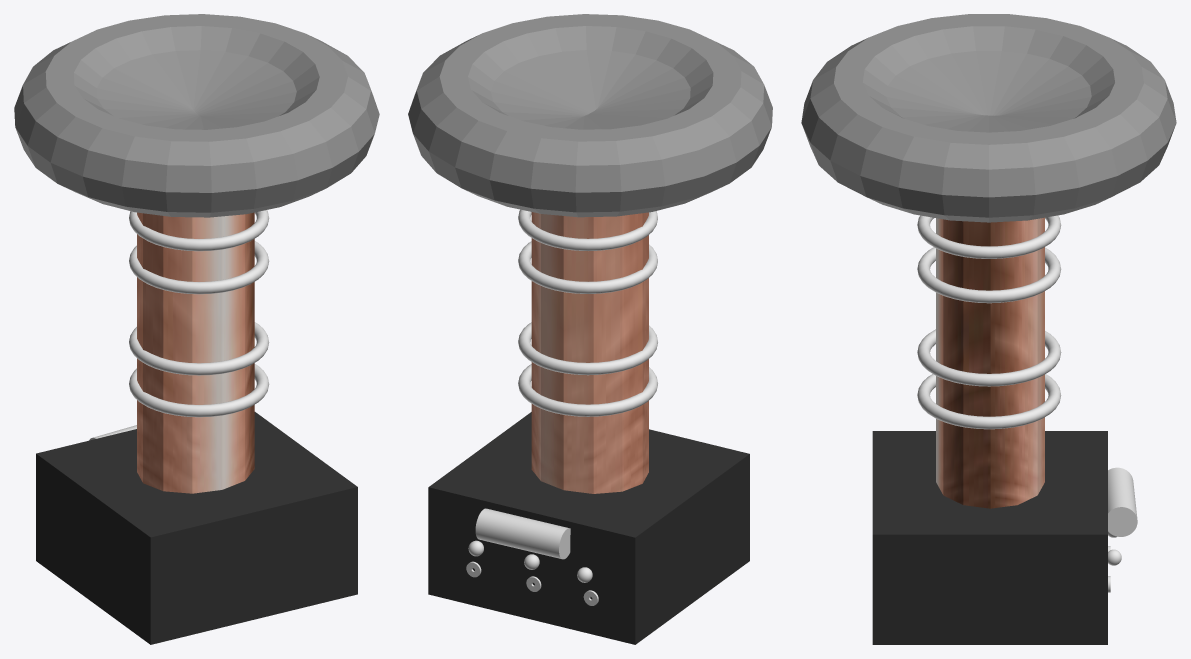
Rendered from bobina di tesla colorata.fbx.
3 renders of one model, left to right at view 1: azimuth 30°, elevation 25°; view 2: azimuth 150°, elevation 25°; view 3: azimuth 270°, elevation 25°, orthographic. The views are drawn at different scales.
Parts seen in each view (by area): view 1: Torus_2_2, Cube, Cylinder_2, Torus, Torus_2, Torus_1, Torus_3; view 2: Torus_2_2, Cube, Cylinder_2, Cylinder, Torus_2, Torus_1, Torus, Torus_3; view 3: Torus_2_2, Cube, Cylinder_2, Torus_1, Torus, Torus_2, Torus_3, Cylinder.
Part boxes in pixels (box(x1,y1,x2,y2)): Torus_2_2: box(14, 14, 379, 217); Cube: box(36, 412, 357, 644); Cylinder_2: box(137, 212, 254, 493); Torus: box(129, 364, 269, 417); Torus_2: box(129, 241, 269, 294); Torus_1: box(129, 322, 269, 375); Torus_3: box(129, 210, 269, 251); Torus_2_2: box(408, 14, 772, 217); Cube: box(428, 412, 749, 644); Cylinder_2: box(531, 212, 648, 493); Cylinder: box(475, 508, 570, 559); Torus_2: box(518, 241, 657, 293); Torus_1: box(518, 322, 657, 375); Torus: box(518, 364, 657, 416); Torus_3: box(518, 209, 657, 250); Torus_2_2: box(801, 14, 1176, 222); Cube: box(872, 431, 1107, 644); Cylinder_2: box(936, 217, 1044, 508); Torus_1: box(917, 329, 1061, 386); Torus: box(917, 374, 1061, 429); Torus_2: box(917, 247, 1061, 303); Torus_3: box(917, 215, 1061, 258); Cylinder: box(1108, 467, 1137, 536).
Bounding box in the file's own units: 1.93 × 2.92 × 1.94.
3 materials, 1 textured.
